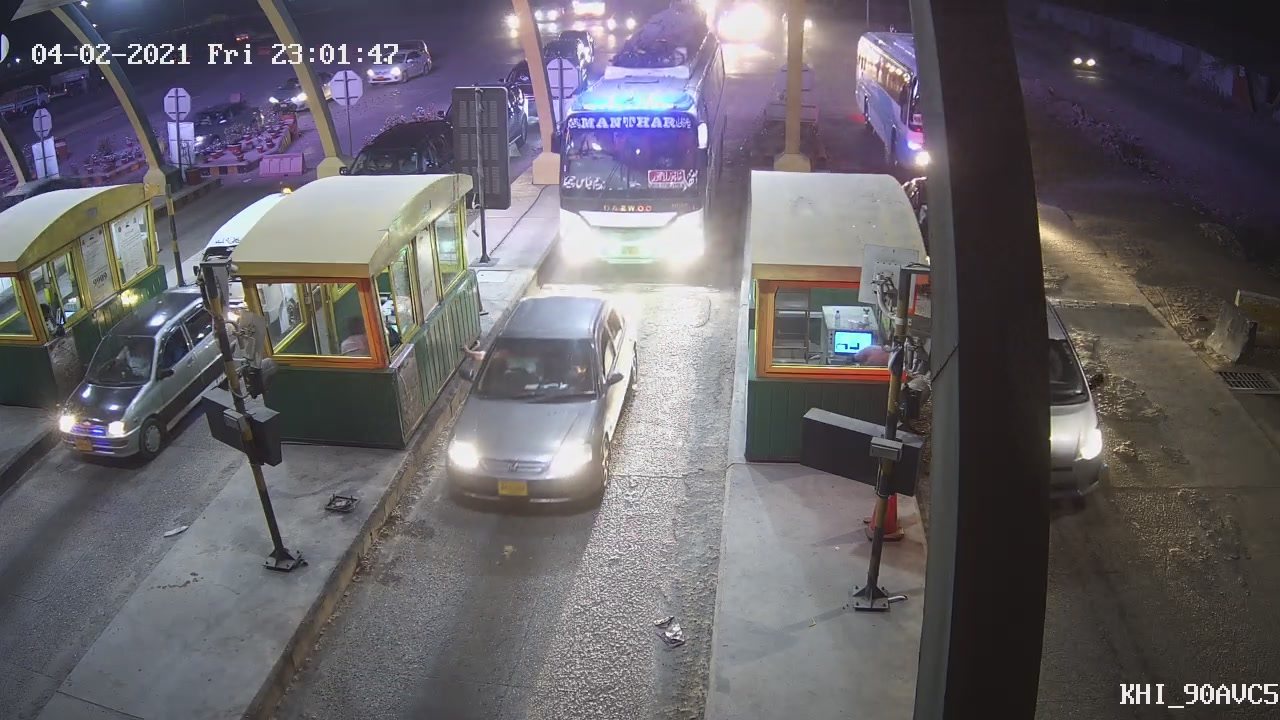F1: (444, 289, 644, 512)
F4: (549, 14, 736, 291)
